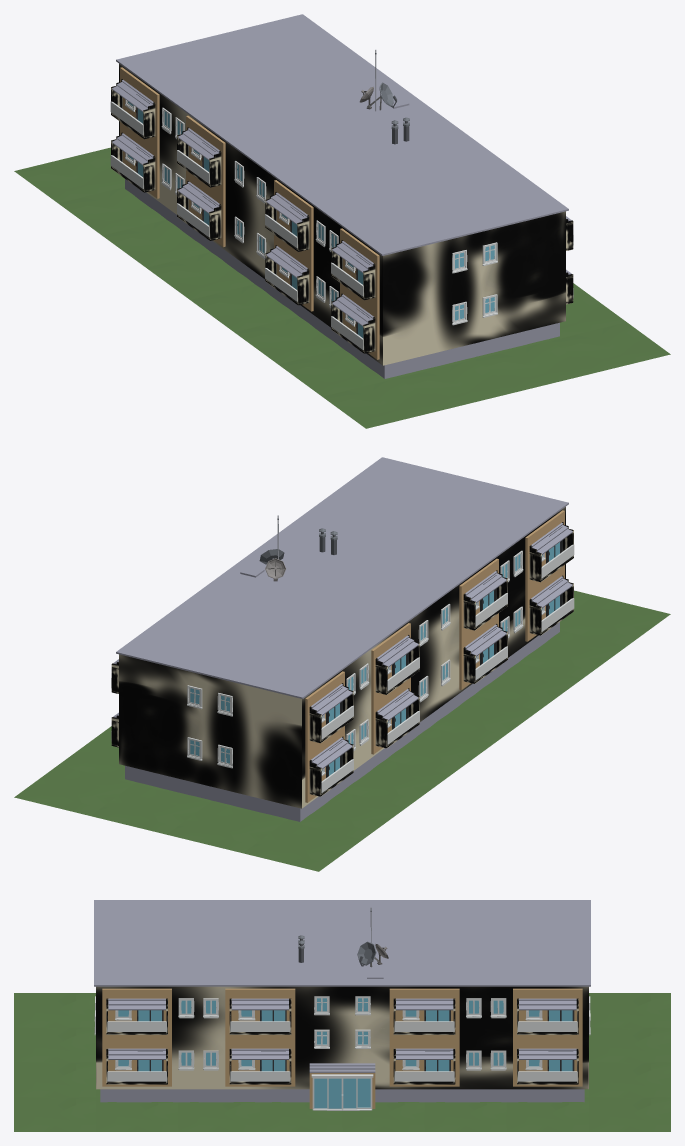
File: zjaranybudyek.fbx
3 views of the same model, one above another, from view 1: azimuth 30°, elevation 25°; view 2: azimuth 150°, elevation 25°; view 3: azimuth 270°, elevation 25° (orthographic). The views are drawn at different scales.
Parts seen in each view (by area): view 1: Cube__2_, Cube__1_, Cube, SM_Env_Grass_01, SM_Env_Grass_01__8_, SM_Env_Grass_01__4_, SM_Env_Grass_01__12_, SM_Env_Grass_01__27_, SM_Env_Grass_01__13_, SM_Env_Grass_01__26_, SM_Env_Grass_01__25_, SM_Env_Grass_01__15_ (+7 smaller); view 2: Cube__2_, Cube__1_, Cube, SM_Env_Grass_01__31_, SM_Env_Grass_01__29_, SM_Env_Grass_01__30_, SM_Env_Grass_01__27_, SM_Env_Grass_01__12_, SM_Env_Grass_01__26_, SM_Env_Grass_01__13_, SM_Env_Grass_01__14_, SM_Env_Grass_01__15_ (+7 smaller); view 3: Cube__2_, Cube__1_, Cube, Cube__3_, Cube__7_, Cube__10_, Cube__4_, SM_Env_Grass_01__30_, SM_Env_Grass_01__4_, SM_Env_Grass_01__8_, SM_Env_Grass_01__29_, SM_Env_Grass_01 (+32 smaller).
Part boxes in pixels (bbox=[...]): Cube__2_: bbox=[116, 14, 568, 255]; Cube__1_: bbox=[119, 64, 565, 365]; Cube: bbox=[125, 179, 559, 378]; SM_Env_Grass_01: bbox=[551, 322, 670, 372]; SM_Env_Grass_01__8_: bbox=[398, 359, 517, 409]; SM_Env_Grass_01__4_: bbox=[475, 341, 593, 391]; SM_Env_Grass_01__12_: bbox=[322, 378, 441, 428]; SM_Env_Grass_01__27_: bbox=[14, 152, 124, 203]; SM_Env_Grass_01__13_: bbox=[278, 348, 397, 396]; SM_Env_Grass_01__26_: bbox=[58, 187, 166, 235]; SM_Env_Grass_01__25_: bbox=[102, 220, 210, 267]; SM_Env_Grass_01__15_: bbox=[190, 284, 298, 331]; Cube__2_: bbox=[116, 457, 568, 698]; Cube__1_: bbox=[119, 507, 565, 808]; Cube: bbox=[125, 622, 559, 821]; SM_Env_Grass_01__31_: bbox=[14, 765, 133, 815]; SM_Env_Grass_01__29_: bbox=[167, 802, 286, 852]; SM_Env_Grass_01__30_: bbox=[91, 784, 209, 834]; SM_Env_Grass_01__27_: bbox=[243, 821, 362, 871]; SM_Env_Grass_01__12_: bbox=[560, 595, 670, 646]; SM_Env_Grass_01__26_: bbox=[287, 791, 406, 839]; SM_Env_Grass_01__13_: bbox=[518, 630, 626, 678]; SM_Env_Grass_01__14_: bbox=[474, 663, 582, 710]; SM_Env_Grass_01__15_: bbox=[430, 695, 538, 742]; Cube__2_: bbox=[94, 900, 590, 986]; Cube__1_: bbox=[96, 986, 588, 1089]; Cube: bbox=[100, 1089, 584, 1102]; Cube__3_: bbox=[389, 988, 459, 1086]; Cube__7_: bbox=[225, 988, 295, 1086]; Cube__10_: bbox=[102, 988, 171, 1086]; Cube__4_: bbox=[513, 988, 582, 1086]; SM_Env_Grass_01__30_: bbox=[589, 1062, 670, 1097]; SM_Env_Grass_01__4_: bbox=[14, 1062, 95, 1097]; SM_Env_Grass_01__8_: bbox=[14, 1027, 95, 1062]; SM_Env_Grass_01__29_: bbox=[589, 1027, 670, 1062]; SM_Env_Grass_01: bbox=[14, 1097, 95, 1131].
Size of the model in its own units: 2000 by 1191 by 4000.
